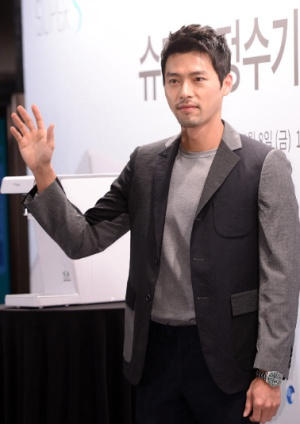male: (153, 18, 240, 142)
